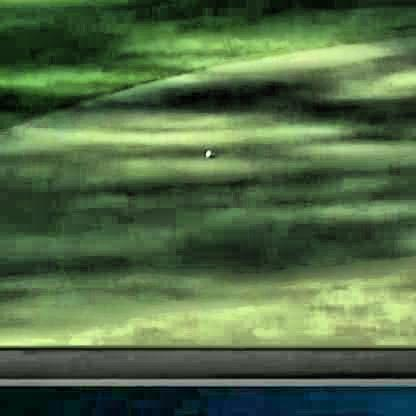golfball: (203, 146, 210, 156)
